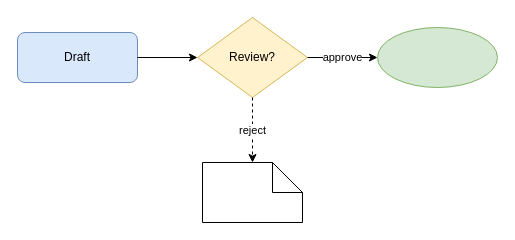
Some shapes in this 515 by 240 pixel diagram are drawn without their labels. Here are the shapes that lost their labels. From the top down, the centre of each, then its label:
pixel 437 57: Published
pixel 252 192: Archive
